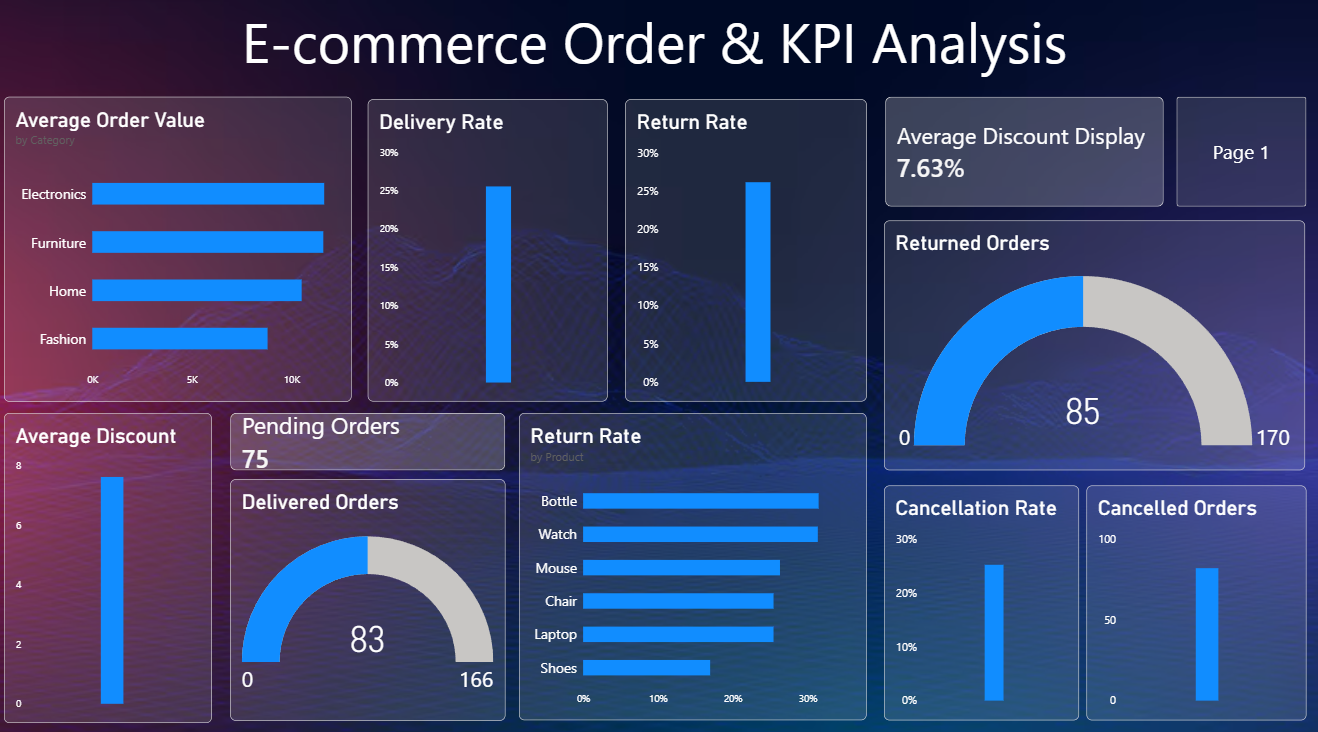

The dashboard page shown, as its layout file describes it:
{"tool":"powerbi","page":{"name":"Page 2","canvas":[1920,1080],"ordinal":1},"visuals":[{"type":"gauge","fields":{"Y":["DAX Measure.Returned Orders"]},"box":[1288.5,329.4,609.9,361.9],"z":0},{"type":"clusteredColumnChart","fields":{"Y":["DAX Measure.Return Rate"]},"box":[913.9,153.8,349.3,437.9],"z":1000},{"type":"clusteredColumnChart","fields":{"Y":["DAX Measure.Cancelled Orders"]},"box":[1581.6,713,318.5,340.2],"z":2000},{"type":"clusteredColumnChart","fields":{"Y":["DAX Measure.Cancellation Rate"]},"box":[1288.5,713,282.3,340.2],"z":3000},{"type":"gauge","fields":{"Y":["DAX Measure.Delivered Orders"]},"box":[342,704,398.1,349.3],"z":4000},{"type":"lineClusteredColumnComboChart","fields":{"Y":["DAX Measure.Delivery Rate"]},"box":[541.1,153.8,347.5,437.9],"z":5000},{"type":"clusteredColumnChart","fields":{"Y":["DAX Measure.Average Discount"]},"box":[14.5,608,300.4,448.8],"z":6000},{"type":"clusteredBarChart","fields":{"Category":["public orders.Category"],"Y":["DAX Measure.Average Order Value"]},"box":[14.5,150.2,503.1,441.6],"z":7000},{"type":"clusteredBarChart","fields":{"Category":["public orders.Product"],"Y":["DAX Measure.Return Rate"]},"box":[760.1,608,503.1,445.2],"z":8000},{"type":"cardVisual","fields":{"Data":["DAX Measure.Average Discount Display"]},"box":[1290.3,150.2,403.6,159.3],"z":9000},{"type":"cardVisual","fields":{"Data":["DAX Measure.Pending Orders"]},"box":[342,608,398.1,83.2],"z":10000},{"type":"textbox","box":[14.5,14.5,1883.9,135.7],"z":11000},{"type":"pageNavigator","box":[1711.9,150.2,188.2,159.3],"z":11001}]}

Visuals, with their boxes in screenshot pixels (x1, y1, x2, y2), scaled from the page's 1920x1080 canvas onto the 1318x732 screenshot:
gauge - DAX Measure.Returned Orders: (885, 223, 1303, 469)
clusteredColumnChart - DAX Measure.Return Rate: (627, 104, 867, 401)
clusteredColumnChart - DAX Measure.Cancelled Orders: (1086, 483, 1304, 714)
clusteredColumnChart - DAX Measure.Cancellation Rate: (885, 483, 1078, 714)
gauge - DAX Measure.Delivered Orders: (235, 477, 508, 714)
lineClusteredColumnComboChart - DAX Measure.Delivery Rate: (371, 104, 610, 401)
clusteredColumnChart - DAX Measure.Average Discount: (10, 412, 216, 716)
clusteredBarChart - public orders.Category x DAX Measure.Average Order Value: (10, 102, 355, 401)
clusteredBarChart - public orders.Product x DAX Measure.Return Rate: (522, 412, 867, 714)
cardVisual - DAX Measure.Average Discount Display: (886, 102, 1163, 210)
cardVisual - DAX Measure.Pending Orders: (235, 412, 508, 468)
textbox: (10, 10, 1303, 102)
pageNavigator: (1175, 102, 1304, 210)
